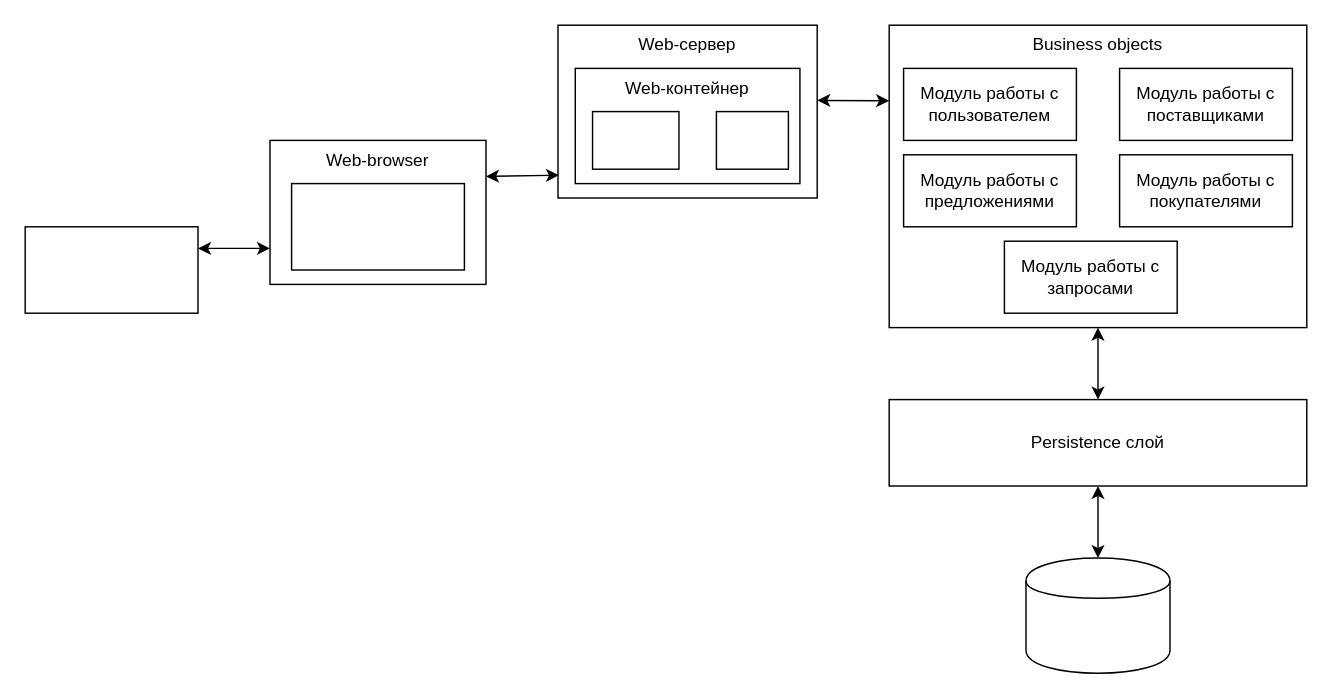
The diagram is 1332 pixels wide and 698 high, and some of its shapes have lost their labels. Each missing label, with the centre of its shape:
HTML/CSS: (377,226)
JSP: (751,139)
БД: (1097,615)
Пользователь: (111,269)
Сервлеты: (635,139)
